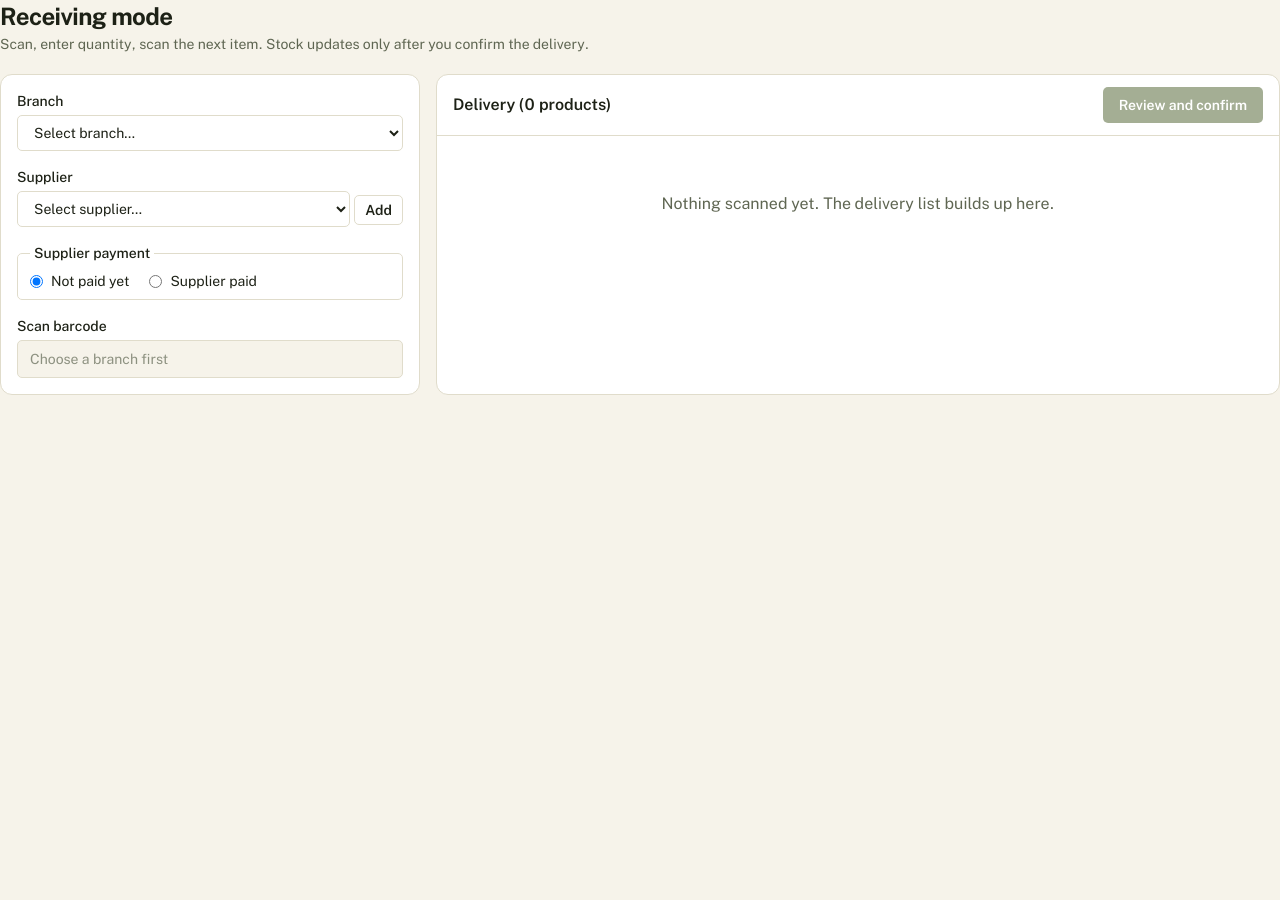
Test: receiving as a super admin (no branch of their own) › adds a supplier manually from the supplier dropdown and selects it
Click the button "Add" at (379, 210), box [354,195,403,225]
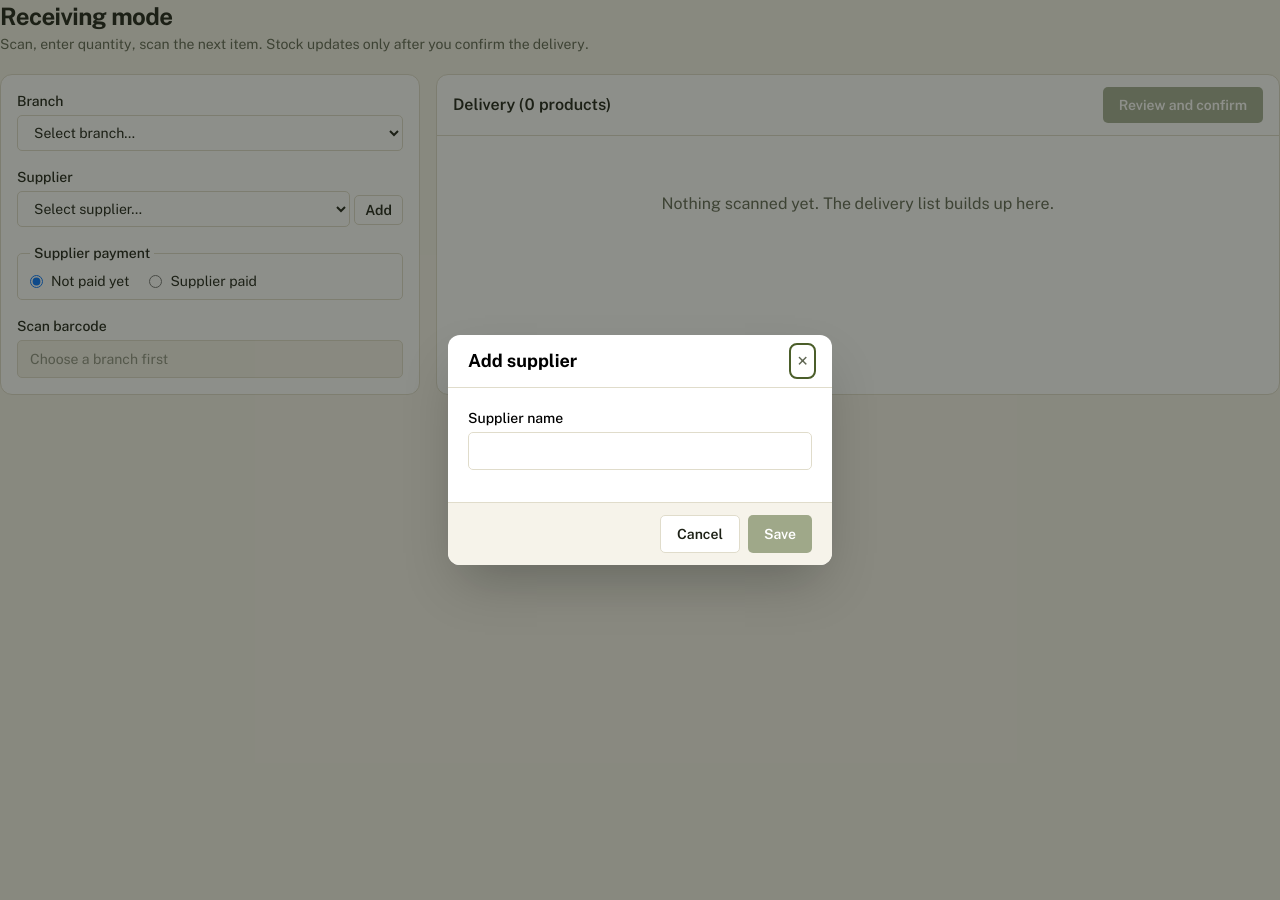
Type "New Supplier" into the field labelled "Supplier name" at (640, 451), box [468,432,812,470]
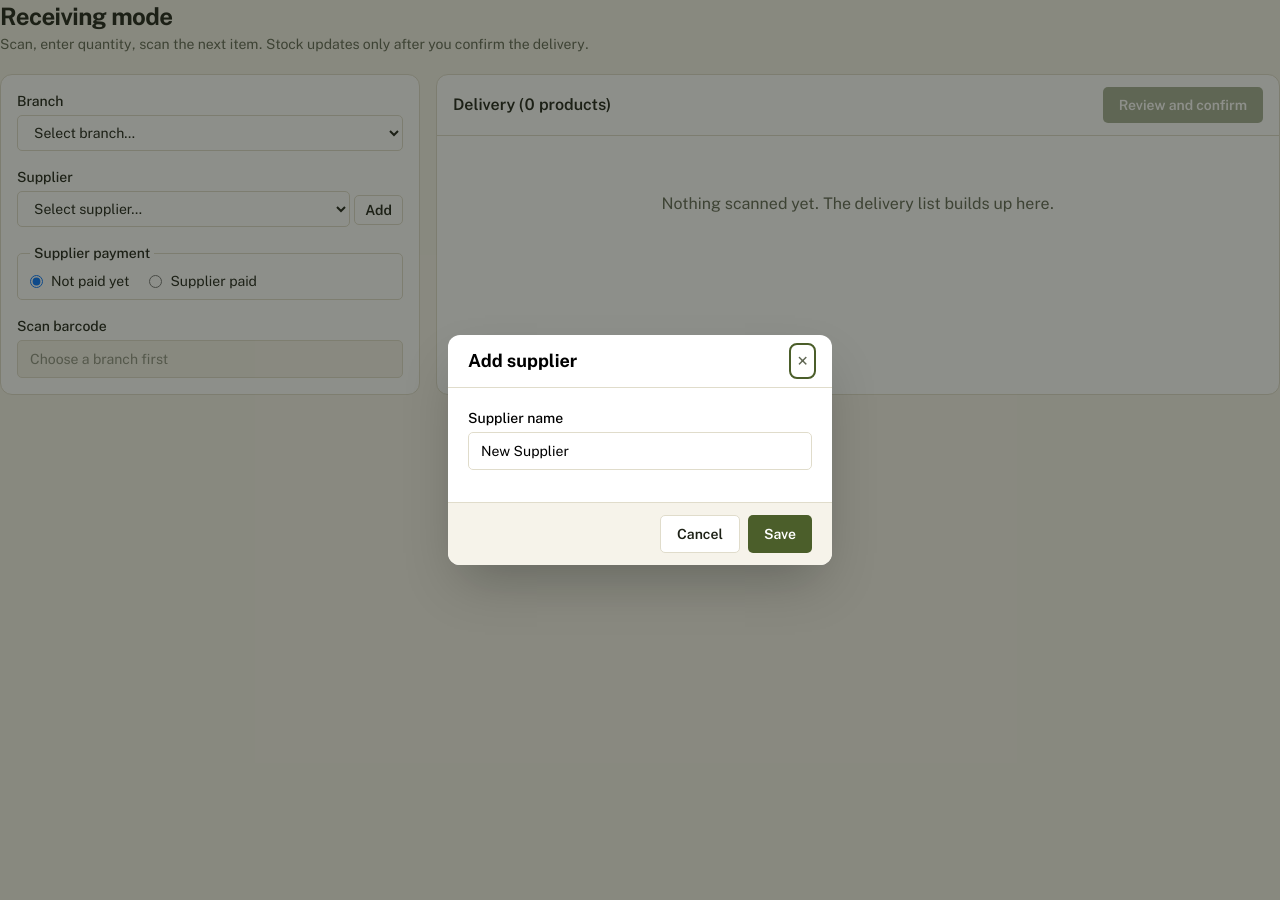
Click the button "Save" at (780, 534), box [748,515,812,553]
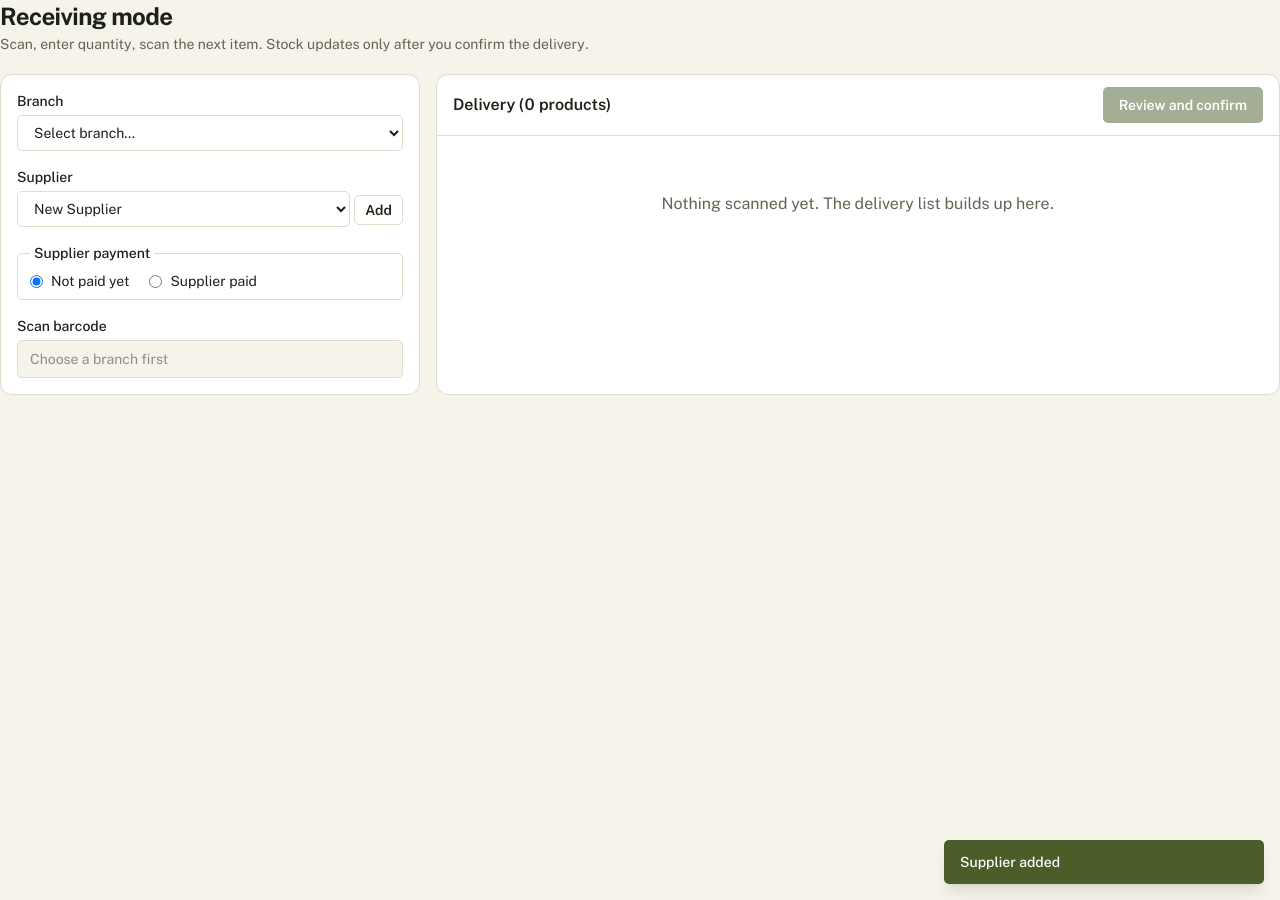
Check: the dropdown labelled "Supplier" shows "New Supplier", box [17,191,350,227]
